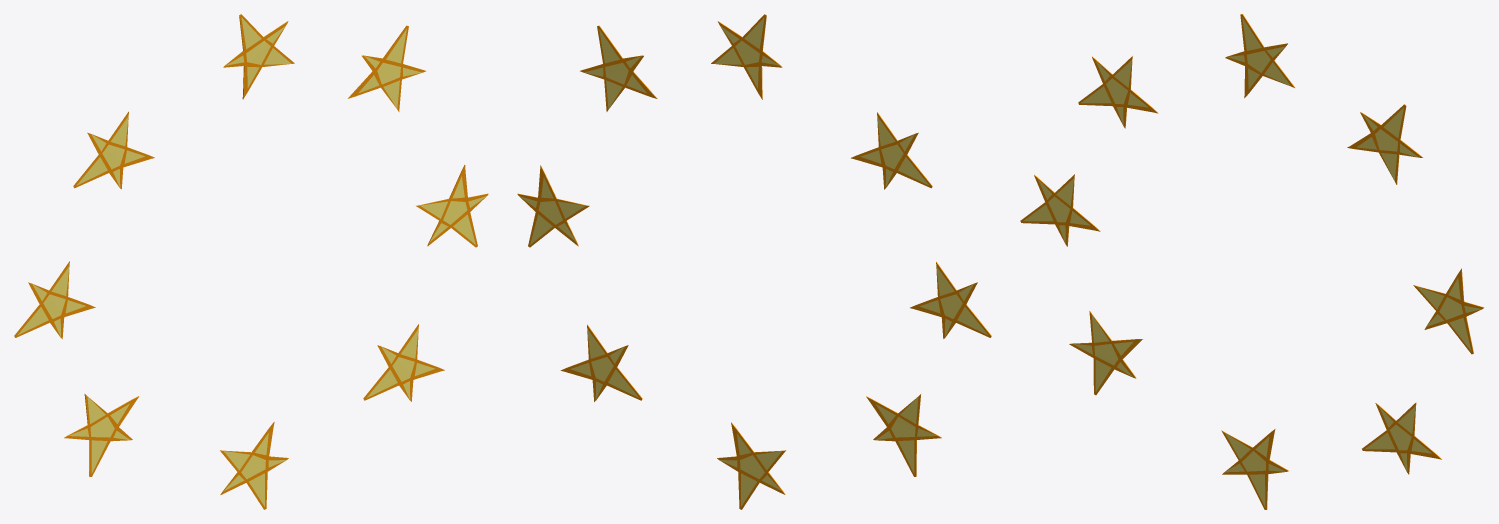
File: starRing.fbx
The picture shows the model from 3 angles, left to right: view 1: azimuth 30°, elevation 25°; view 2: azimuth 150°, elevation 25°; view 3: azimuth 330°, elevation 25°; orthographic projection. The views are drawn at different scales.
Parts seen in each view (by area): view 1: Plane.004, Plane.002, Plane.006, Plane.001, Plane.005, Plane.003, Plane.007, Plane.008; view 2: Plane.001, Plane.008, Plane.003, Plane.007, Plane.006, Plane.005, Plane.002, Plane.004; view 3: Plane.005, Plane.003, Plane.004, Plane.008, Plane.006, Plane.007, Plane.001, Plane.002.
Boxes of the visible parts, <box> form: Plane.004: <box>416,165,488,247</box>; Plane.002: <box>348,25,426,111</box>; Plane.006: <box>220,422,288,509</box>; Plane.001: <box>223,14,294,99</box>; Plane.005: <box>64,394,139,476</box>; Plane.003: <box>14,261,95,338</box>; Plane.007: <box>73,111,154,189</box>; Plane.008: <box>363,324,444,401</box>; Plane.001: <box>711,14,782,99</box>; Plane.008: <box>560,324,642,401</box>; Plane.003: <box>910,261,991,338</box>; Plane.007: <box>851,112,932,189</box>; Plane.006: <box>717,422,785,509</box>; Plane.005: <box>866,394,941,476</box>; Plane.002: <box>580,25,657,111</box>; Plane.004: <box>517,165,589,247</box>; Plane.005: <box>1069,311,1142,395</box>; Plane.003: <box>1020,174,1100,246</box>; Plane.004: <box>1413,268,1484,354</box>; Plane.008: <box>1362,402,1441,474</box>; Plane.006: <box>1221,429,1288,509</box>; Plane.007: <box>1078,56,1158,128</box>; Plane.001: <box>1225,14,1295,98</box>; Plane.002: <box>1347,104,1423,184</box>.
Size of the model in its own units: 314 by 317 by 0.9066.
